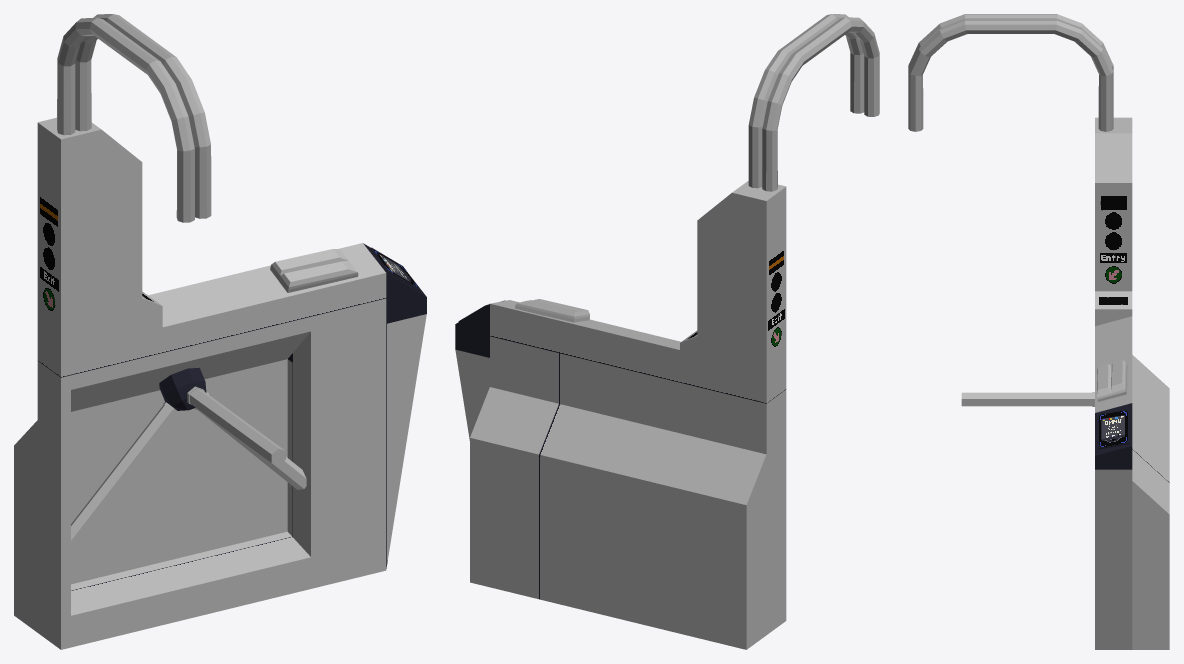
Rendered from Turnstile.glb.
3 views of the same model, side by side, from view 1: azimuth 30°, elevation 25°; view 2: azimuth 150°, elevation 25°; view 3: azimuth 270°, elevation 25° (orthographic). The views are drawn at different scales.
Visible parts, largest first — view 1: Plane.003; view 2: Plane.003; view 3: Plane.003.
Boxes of the visible parts, x1,y1,x2,y2 form: Plane.003: (14, 14, 426, 649); Plane.003: (455, 14, 879, 649); Plane.003: (908, 14, 1169, 649).
Bounding box in the file's own units: 9 × 15.2 × 7.
Materials: 4 (3 with a texture image).
